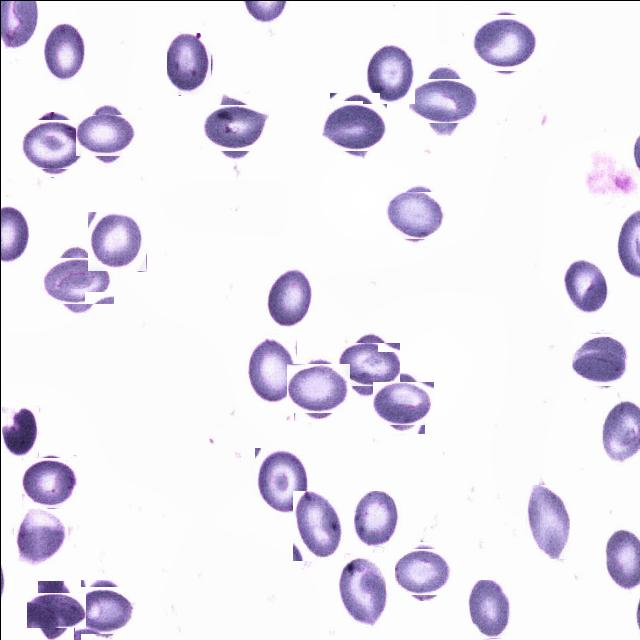red blood cell: (474, 11, 536, 74), (337, 552, 388, 628), (252, 447, 306, 515), (46, 250, 106, 310), (292, 490, 343, 560), (87, 211, 146, 271), (244, 335, 296, 403), (325, 96, 383, 154), (414, 70, 472, 128), (526, 484, 570, 559), (24, 115, 81, 172), (289, 360, 346, 416), (12, 509, 68, 565), (207, 99, 263, 154), (362, 44, 414, 103), (572, 332, 628, 386), (76, 582, 132, 636), (263, 266, 311, 327), (388, 188, 442, 242), (22, 456, 76, 510), (166, 32, 211, 95), (41, 22, 87, 83), (342, 337, 394, 390), (397, 544, 449, 596), (376, 376, 428, 428), (352, 490, 400, 546), (467, 579, 512, 638), (80, 108, 130, 160), (563, 258, 609, 314), (31, 586, 79, 634), (1, 406, 38, 457)
